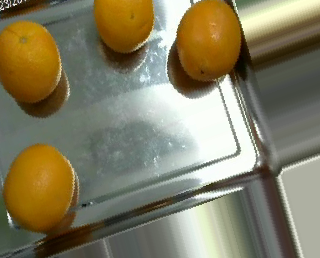Orange: (3, 142, 76, 232), (176, 1, 241, 81), (1, 21, 61, 102)
